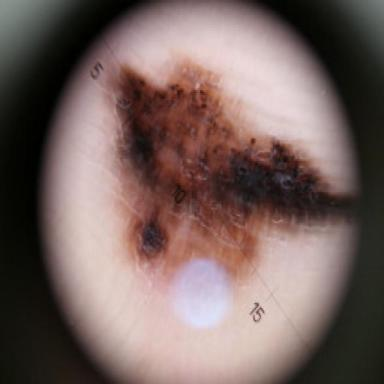Melanoma: (105, 56, 364, 284)
